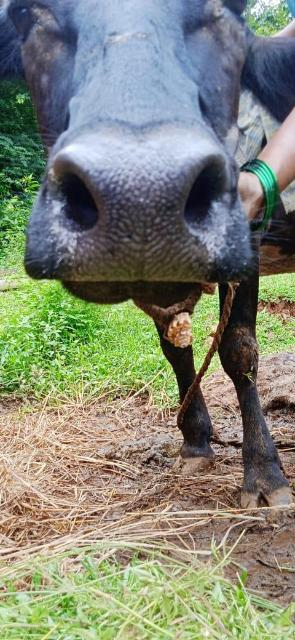Muzzle: (66, 148, 208, 284)
